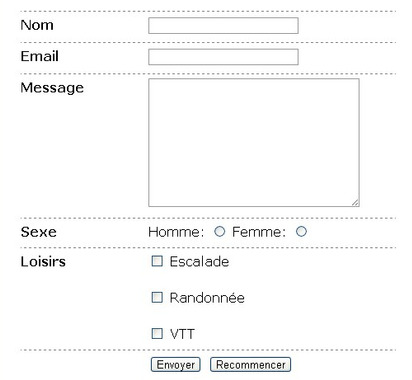_form_: (1, 1, 412, 380)
button: (209, 356, 292, 373), (150, 356, 201, 373)
checkbox: (151, 325, 165, 341), (151, 252, 164, 269), (151, 290, 164, 305)
checkbox_with_label: (149, 289, 247, 306), (149, 250, 228, 271), (148, 324, 194, 342)
field: (145, 77, 360, 209), (146, 16, 300, 35), (146, 47, 299, 66)
field_with_label: (19, 75, 362, 211), (21, 14, 301, 36), (21, 46, 300, 67)
radio: (292, 223, 307, 240), (212, 224, 225, 240)
radio_with_label: (233, 221, 309, 241), (148, 223, 226, 242)
